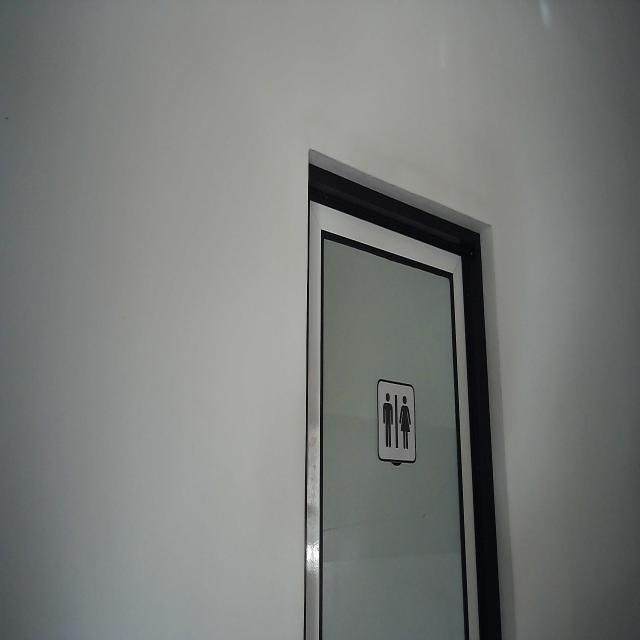restroom: (375, 376, 418, 465)
